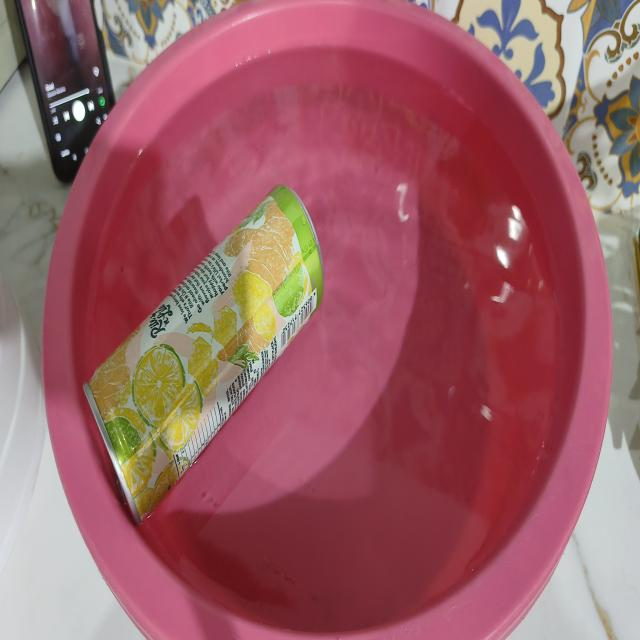Aluminum Can: (70, 161, 346, 561)
